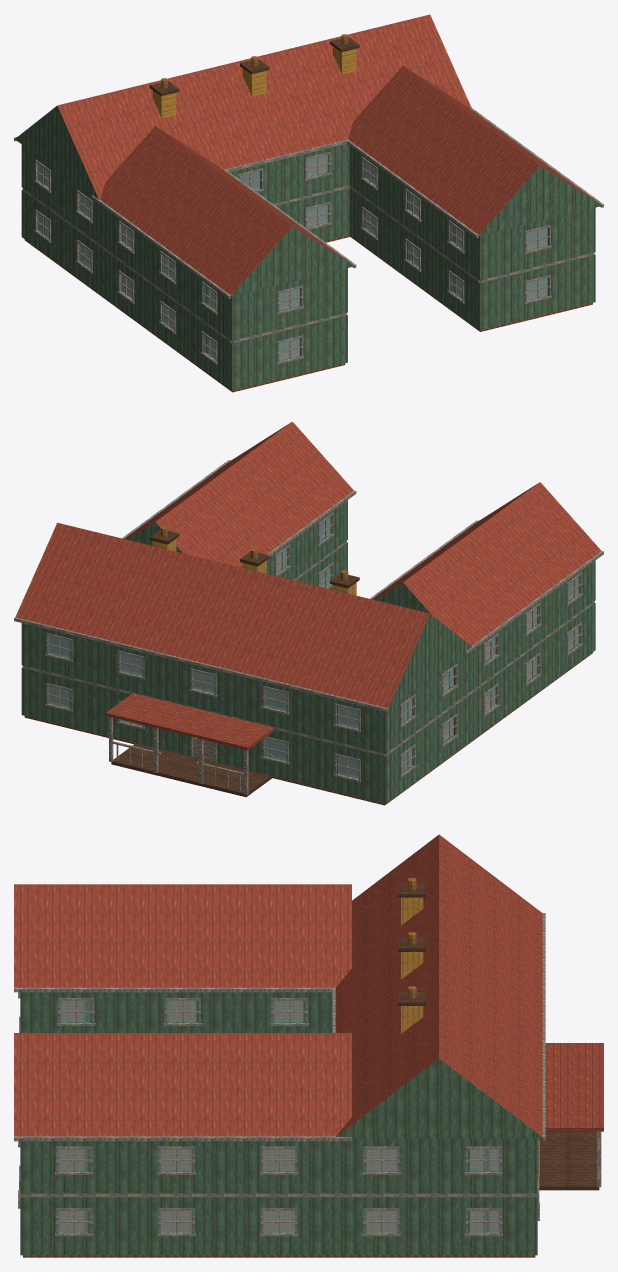
The model's file is coach-yard-inn.gltf.
3 views of the same model, one above another, from view 1: azimuth 30°, elevation 25°; view 2: azimuth 150°, elevation 25°; view 3: azimuth 270°, elevation 25° (orthographic). The views are drawn at different scales.
Visible parts, largest first — view 1: roof-L1-brown-shingle, exterior-L0-plaster, exterior-L1-plaster, roof-L1-plaster, trim-L1-dark-wood, trim-L0-dark-wood, roof-L1-dark-wood, glazing-L1-glass, glazing-L0-glass, exterior-L0-dark-wood, details-L1-brick, floor-L0-floor (+3 smaller); view 2: roof-L1-brown-shingle, exterior-L1-plaster, exterior-L0-plaster, porch-L0-brown-shingle, roof-L1-plaster, trim-L1-dark-wood, roof-L1-dark-wood, porch-L0-stone, trim-L0-dark-wood, glazing-L1-glass, glazing-L0-glass, exterior-L0-dark-wood (+6 smaller); view 3: roof-L1-brown-shingle, exterior-L1-plaster, exterior-L0-plaster, roof-L1-plaster, porch-L0-brown-shingle, glazing-L1-glass, roof-L1-dark-wood, trim-L1-dark-wood, floor-L0-floor, porch-L0-stone, glazing-L0-glass, floor-L1-floor (+4 smaller).
Boxes of the visible parts, left/top/right/bottom form: roof-L1-brown-shingle: left=57, top=14, right=599, bottom=294; exterior-L0-plaster: left=21, top=188, right=595, bottom=390; exterior-L1-plaster: left=21, top=144, right=595, bottom=340; roof-L1-plaster: left=15, top=106, right=601, bottom=296; trim-L1-dark-wood: left=34, top=152, right=551, bottom=314; trim-L0-dark-wood: left=34, top=201, right=551, bottom=364; roof-L1-dark-wood: left=14, top=107, right=603, bottom=298; glazing-L1-glass: left=38, top=154, right=547, bottom=310; glazing-L0-glass: left=38, top=204, right=547, bottom=360; exterior-L0-dark-wood: left=22, top=185, right=594, bottom=343; details-L1-brick: left=152, top=46, right=356, bottom=118; floor-L0-floor: left=24, top=210, right=592, bottom=392; roof-L1-brown-shingle: left=15, top=421, right=601, bottom=707; exterior-L1-plaster: left=21, top=500, right=595, bottom=753; exterior-L0-plaster: left=21, top=542, right=595, bottom=803; porch-L0-brown-shingle: left=106, top=693, right=274, bottom=750; roof-L1-plaster: left=127, top=522, right=471, bottom=708; trim-L1-dark-wood: left=45, top=513, right=583, bottom=732; roof-L1-dark-wood: left=14, top=460, right=603, bottom=711; porch-L0-stone: left=111, top=743, right=272, bottom=797; trim-L0-dark-wood: left=45, top=563, right=583, bottom=782; glazing-L1-glass: left=49, top=517, right=578, bottom=728; glazing-L0-glass: left=49, top=567, right=578, bottom=778; exterior-L0-dark-wood: left=22, top=541, right=594, bottom=756; roof-L1-brown-shingle: left=14, top=834, right=542, bottom=1136; exterior-L1-plaster: left=20, top=992, right=537, bottom=1193; exterior-L0-plaster: left=20, top=1196, right=537, bottom=1255; roof-L1-plaster: left=336, top=1058, right=542, bottom=1138; porch-L0-brown-shingle: left=545, top=1043, right=603, bottom=1131; glazing-L1-glass: left=58, top=1000, right=499, bottom=1170; roof-L1-dark-wood: left=14, top=913, right=545, bottom=1141; trim-L1-dark-wood: left=18, top=992, right=539, bottom=1174; floor-L0-floor: left=23, top=1211, right=535, bottom=1257; porch-L0-stone: left=539, top=1131, right=599, bottom=1190; glazing-L0-glass: left=58, top=1211, right=499, bottom=1232; floor-L1-floor: left=61, top=1001, right=496, bottom=1167.
Bounding box in the file's own units: 16.66 × 7.45 × 18.43.
11 materials, 10 textured.
